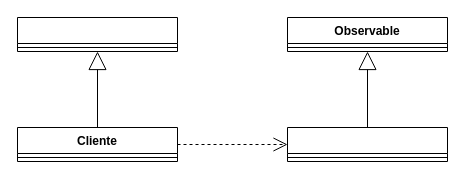
Image size: 465x179. Some labels were removed from this diagram. Here are the shapes that lost their labels. From the top down, the centre of each, then its label:
At (97,34): "Observer".
At (367,144): "Produto".
